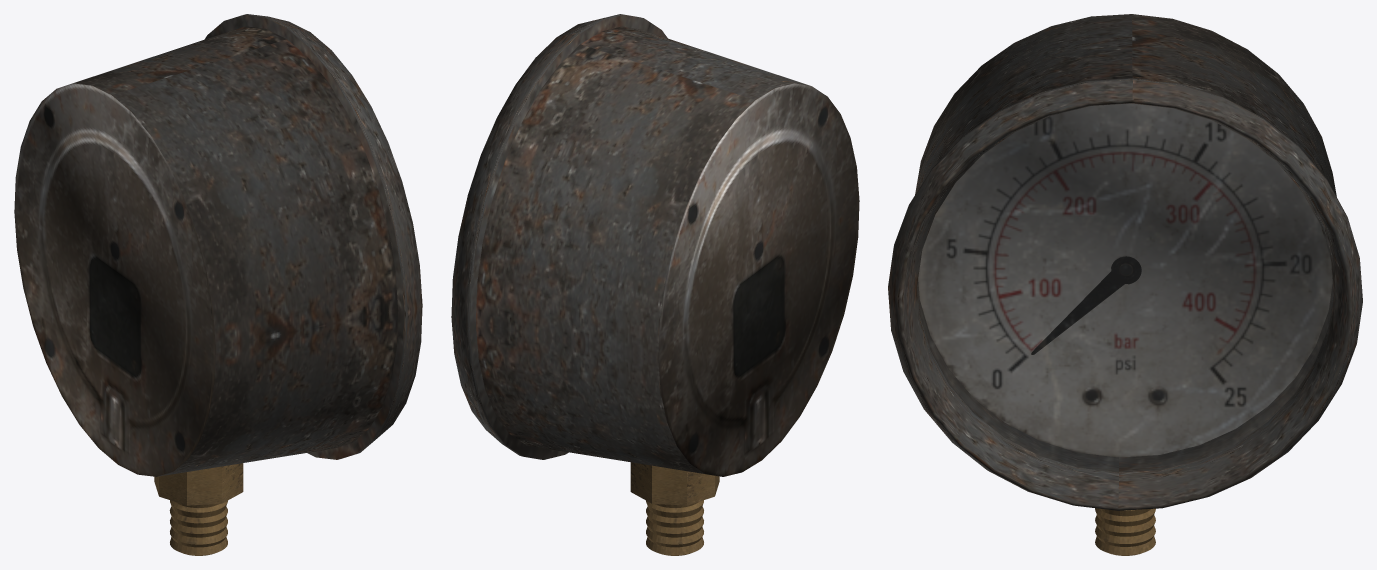
The model's file is Manometr.fbx.
3 renders of one model, left to right at view 1: azimuth 30°, elevation 25°; view 2: azimuth 150°, elevation 25°; view 3: azimuth 270°, elevation 25°, orthographic. The views are drawn at different scales.
Visible parts, largest first — view 1: Cylinder.001; view 2: Cylinder.001; view 3: Cylinder.001, Plane.
Boxes of the visible parts, left/top/right/bottom form: Cylinder.001: left=14, top=14, right=422, bottom=555; Cylinder.001: left=451, top=14, right=859, bottom=555; Cylinder.001: left=888, top=14, right=1362, bottom=555; Plane: left=1031, top=256, right=1141, bottom=354.
Bounding box in the file's own units: 106 × 250 × 209.
Materials: 3 (3 with a texture image).
